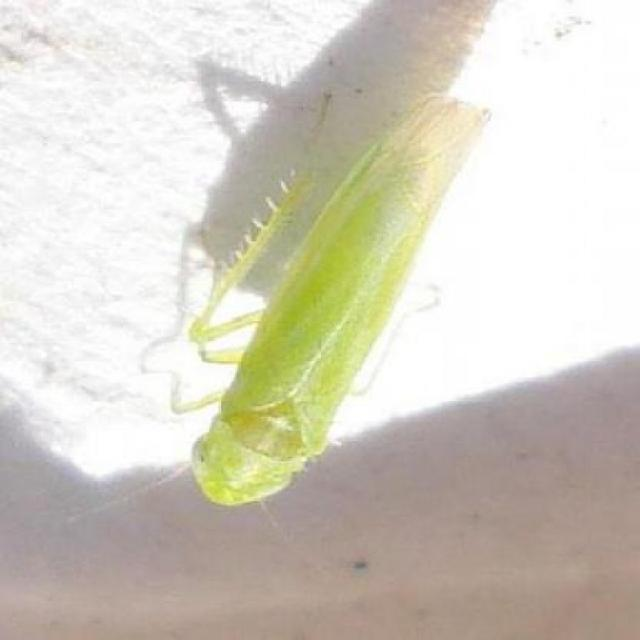green-leafhopper: (194, 95, 474, 511)
